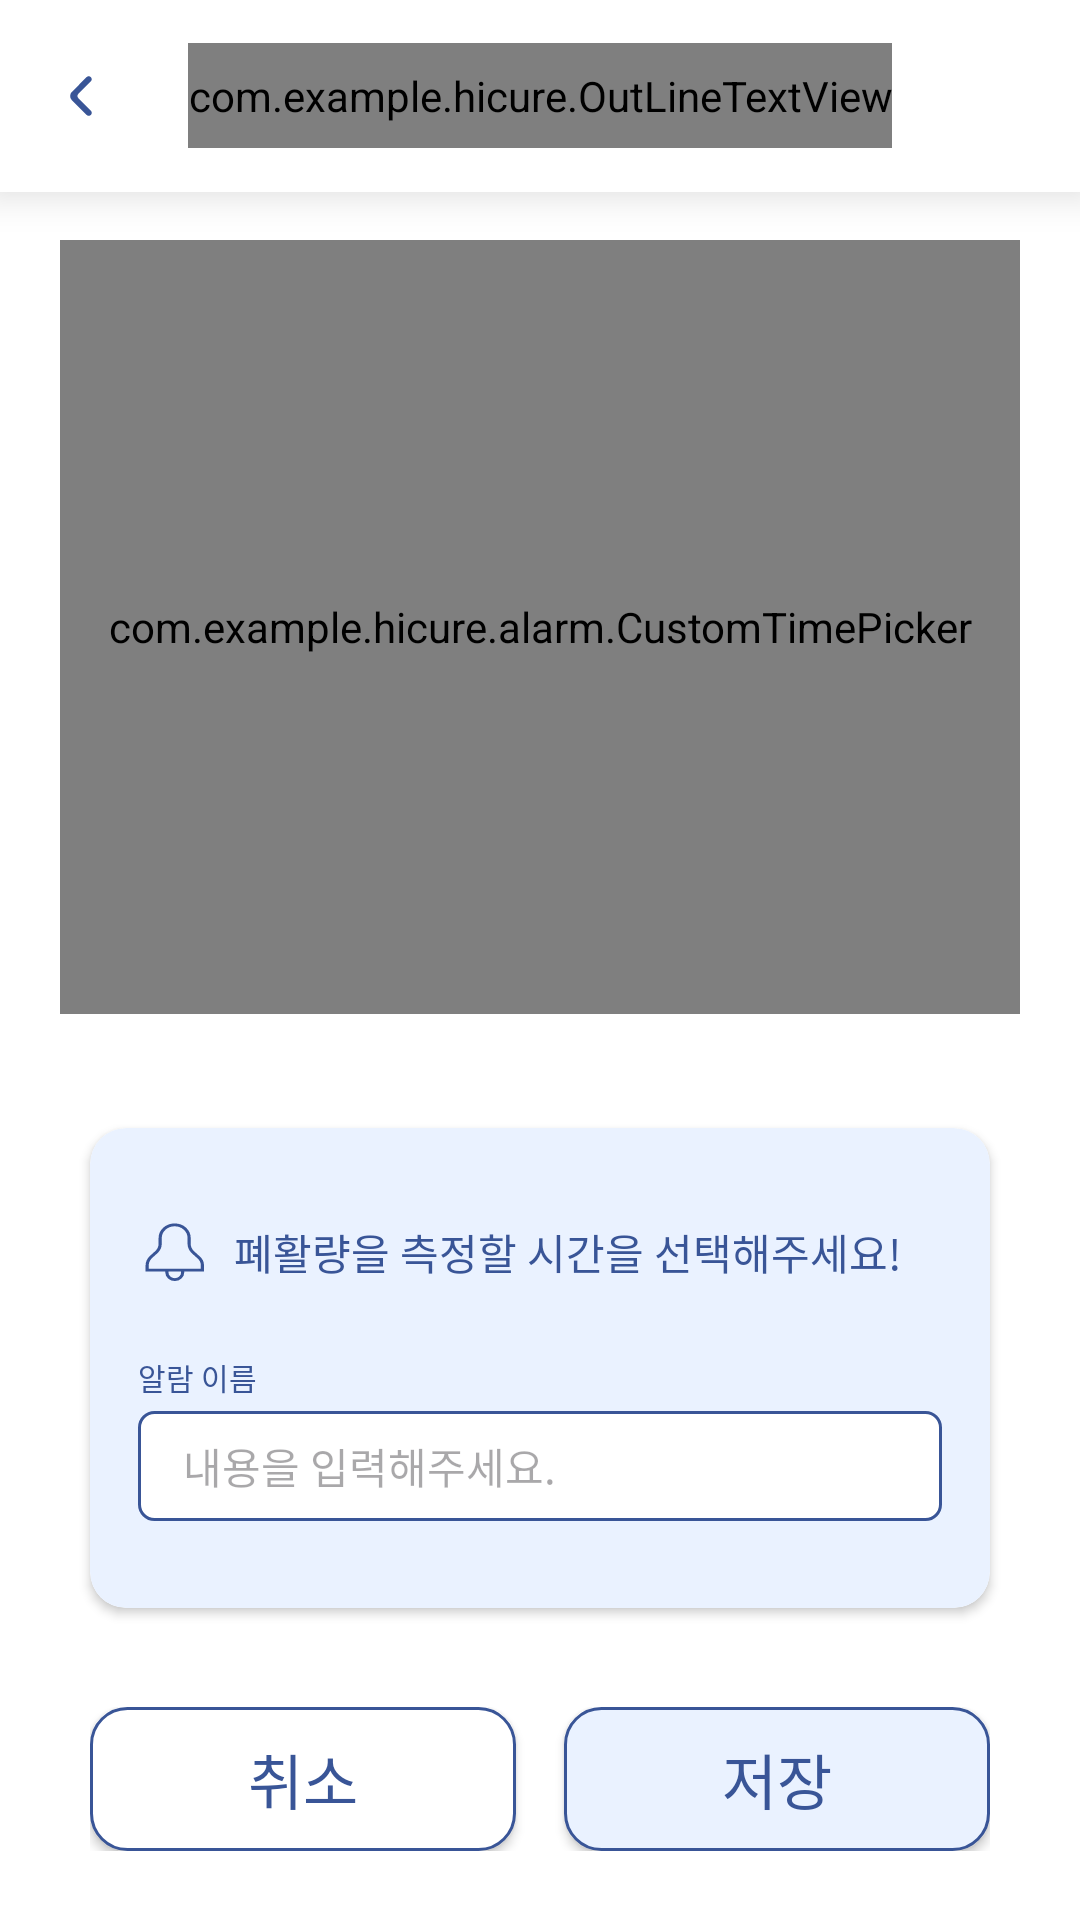

Icons on this 1080x1920 Android screen, each with its box as detection(x1, y1, x2, y2):
alarm bell: detection(145, 1223, 204, 1281)
back: detection(70, 76, 92, 116)
